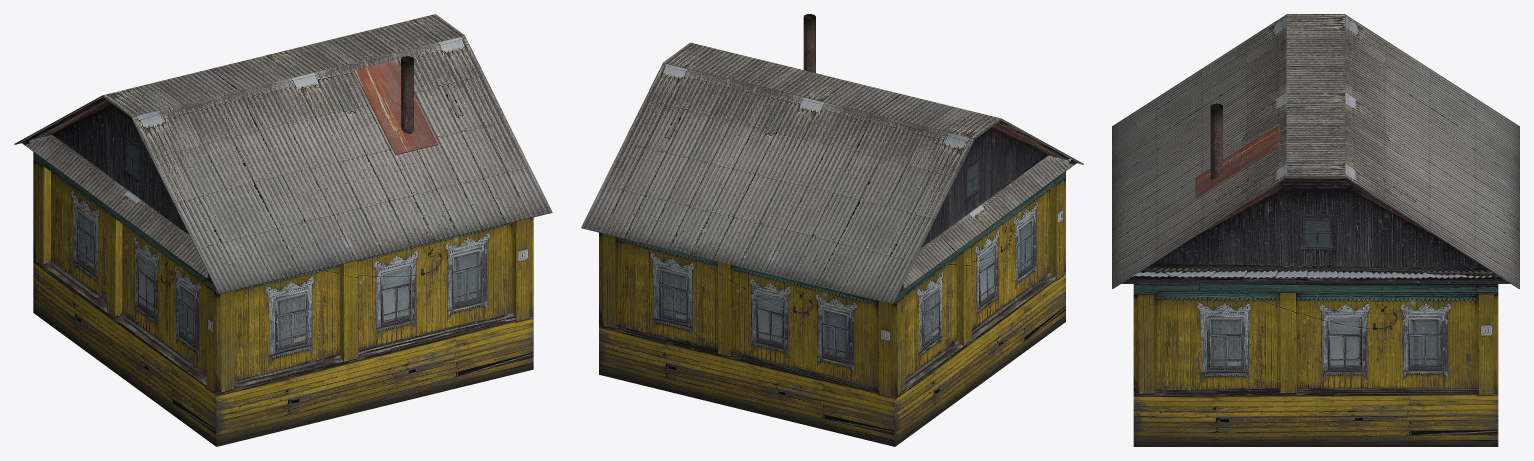
File: sibir_domik.FBX
3 renders of one model, left to right at view 1: azimuth 30°, elevation 25°; view 2: azimuth 150°, elevation 25°; view 3: azimuth 270°, elevation 25°, orthographic. The views are drawn at different scales.
Visible parts, largest first — view 1: sibir_domik; view 2: sibir_domik; view 3: sibir_domik.
Part boxes in pixels (<box>): sibir_domik: <box>14,14,552,446</box>; sibir_domik: <box>581,14,1083,446</box>; sibir_domik: <box>1112,14,1519,446</box>.
Size of the model in its own units: 844 by 894 by 725.
